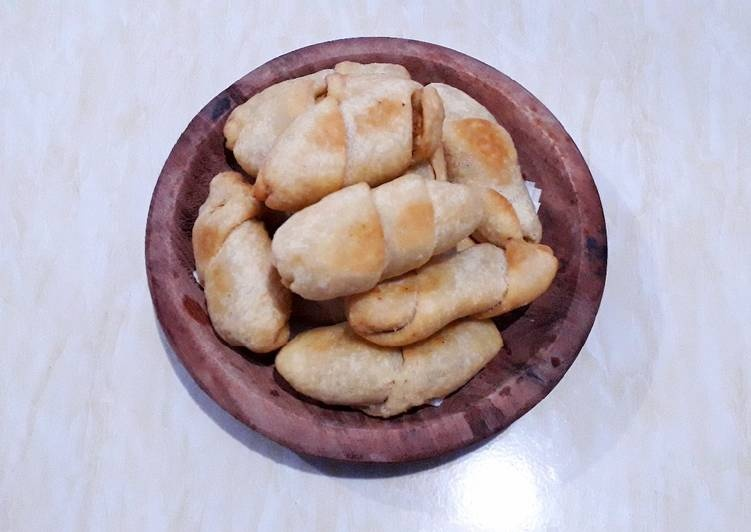pisang_molen: (252, 81, 445, 218), (273, 175, 481, 298), (193, 168, 290, 350)
